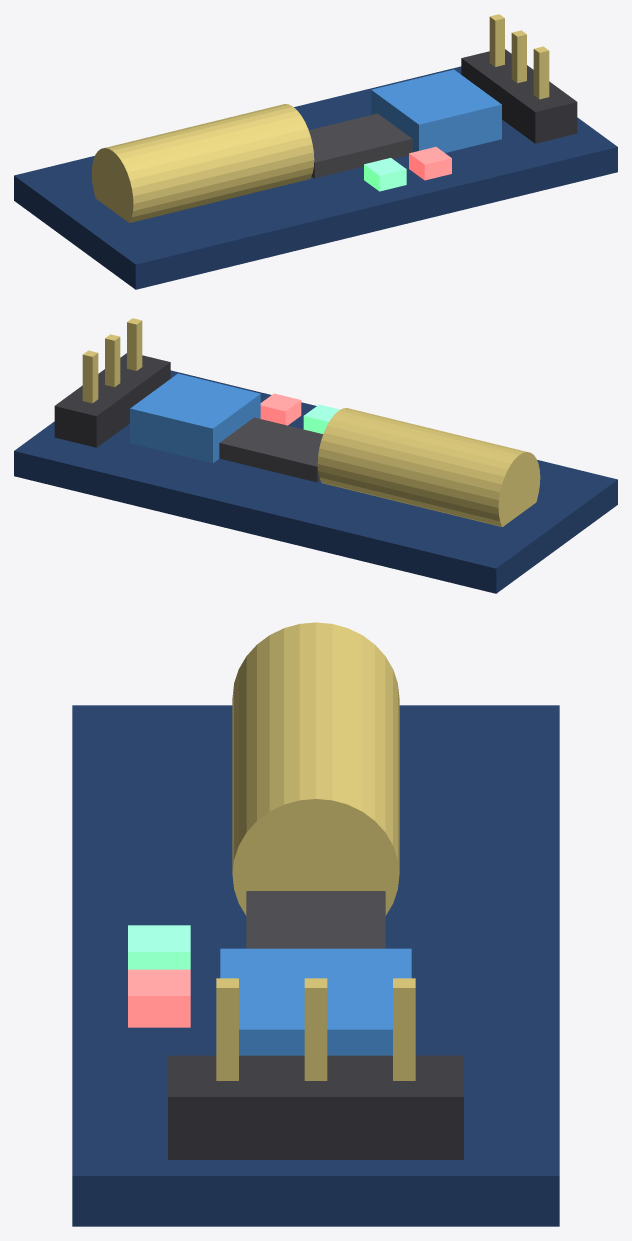
The model's file is sw420_vibration.glb.
The picture shows the model from 3 angles, top to bottom: view 1: azimuth 30°, elevation 25°; view 2: azimuth 150°, elevation 25°; view 3: azimuth 270°, elevation 25°; orthographic projection. The views are drawn at different scales.
Visible parts, largest first — view 1: SW420_PCB, SW420_Sensor_Tube, Sensitivity_Trimmer, SW420_Header_Base, LM393_Comparator, Power_LED, DO_LED, SW420_Pin_3, SW420_Pin_2, SW420_Pin_1; view 2: SW420_PCB, SW420_Sensor_Tube, Sensitivity_Trimmer, SW420_Header_Base, LM393_Comparator, DO_LED, SW420_Pin_1, SW420_Pin_2, SW420_Pin_3, Power_LED; view 3: SW420_PCB, SW420_Sensor_Tube, SW420_Header_Base, Sensitivity_Trimmer, LM393_Comparator, DO_LED, Power_LED, SW420_Pin_2, SW420_Pin_1, SW420_Pin_3.
Boxes of the visible parts, x1,y1,x2,y2 form: SW420_PCB: (14, 66, 617, 289); SW420_Sensor_Tube: (91, 104, 314, 222); Sensitivity_Trimmer: (371, 69, 501, 152); SW420_Header_Base: (461, 49, 577, 143); LM393_Comparator: (309, 113, 412, 178); Power_LED: (364, 158, 406, 191); DO_LED: (409, 147, 451, 180); SW420_Pin_3: (533, 46, 549, 99); SW420_Pin_2: (511, 30, 526, 83); SW420_Pin_1: (489, 14, 504, 66); SW420_PCB: (14, 370, 617, 593); SW420_Sensor_Tube: (317, 408, 540, 526); Sensitivity_Trimmer: (130, 373, 260, 463); SW420_Header_Base: (54, 353, 170, 447); LM393_Comparator: (219, 417, 322, 482); DO_LED: (260, 393, 301, 425); SW420_Pin_1: (82, 350, 98, 403); SW420_Pin_2: (105, 334, 120, 387); SW420_Pin_3: (127, 318, 142, 370); Power_LED: (303, 404, 339, 433); SW420_PCB: (72, 705, 559, 1226); SW420_Sensor_Tube: (232, 622, 399, 915); SW420_Header_Base: (168, 1055, 463, 1159); Sensitivity_Trimmer: (220, 948, 411, 1055); LM393_Comparator: (246, 891, 385, 948); DO_LED: (128, 969, 190, 1027); Power_LED: (128, 925, 190, 969); SW420_Pin_2: (304, 978, 327, 1080); SW420_Pin_1: (393, 978, 415, 1080); SW420_Pin_3: (216, 978, 238, 1080).
Size of the model in its own units: 3.2 by 0.655 by 1.4.
